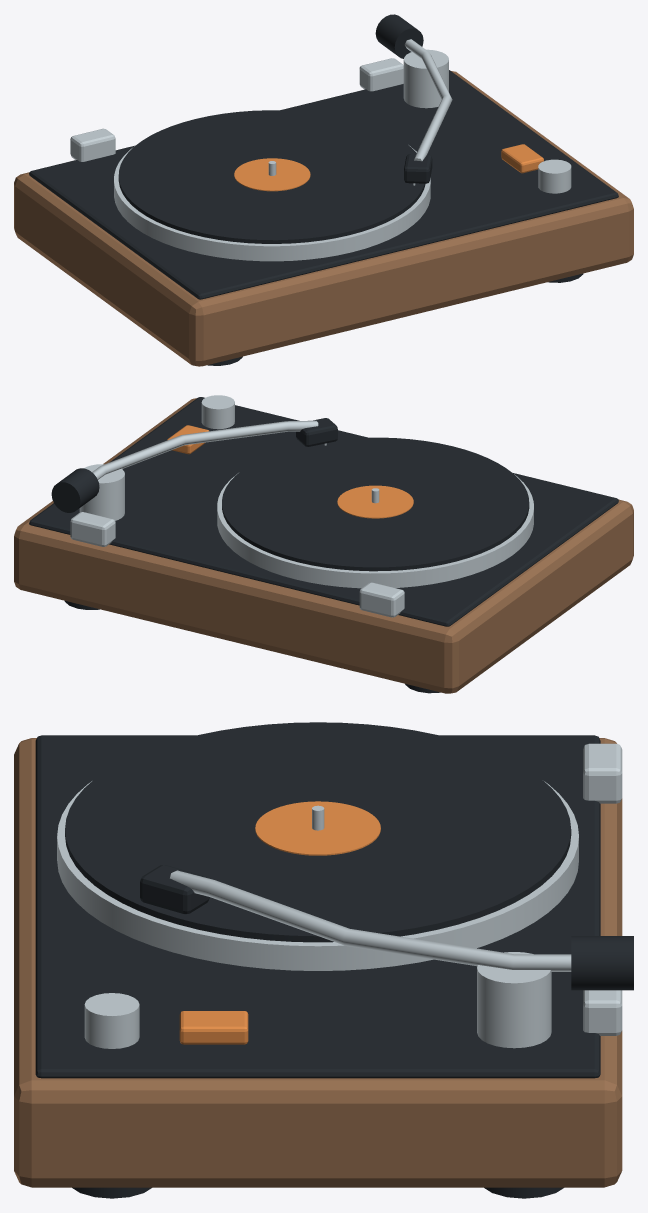
File: record_player.glb
3 renders of one model, top to bottom at view 1: azimuth 30°, elevation 25°; view 2: azimuth 150°, elevation 25°; view 3: azimuth 270°, elevation 25°, orthographic. The views are drawn at different scales.
Parts seen in each view (by area): view 1: Walnut turntable plinth, Turntable black top deck, Black vinyl record, Silver turntable platter, Tonearm pivot base, Orange record label, Bent silver tonearm, Tonearm counterweight, Dust cover hinge block, Dust cover hinge block.001, Speed control knob, Turntable power switch (+1 smaller); view 2: Walnut turntable plinth, Black vinyl record, Turntable black top deck, Silver turntable platter, Bent silver tonearm, Orange record label, Tonearm pivot base, Tonearm counterweight, Dust cover hinge block, Dust cover hinge block.001, Speed control knob, Tonearm cartridge (+1 smaller); view 3: Walnut turntable plinth, Black vinyl record, Turntable black top deck, Silver turntable platter, Bent silver tonearm, Tonearm pivot base, Orange record label, Tonearm counterweight, Speed control knob, Turntable power switch, Dust cover hinge block, Tonearm cartridge (+3 smaller).
Boxes of the visible parts, box(x1,y1,x2,y2) form: Walnut turntable plinth: box(14, 71, 633, 366); Turntable black top deck: box(29, 70, 618, 299); Black vinyl record: box(118, 110, 425, 243); Silver turntable platter: box(114, 145, 430, 261); Tonearm pivot base: box(403, 49, 448, 108); Orange record label: box(234, 158, 310, 191); Bent silver tonearm: box(404, 39, 452, 161); Tonearm counterweight: box(375, 14, 423, 58); Dust cover hinge block: box(70, 128, 115, 161); Dust cover hinge block.001: box(359, 58, 403, 91); Speed control knob: box(538, 159, 571, 193); Turntable power switch: box(501, 144, 543, 173); Walnut turntable plinth: box(14, 398, 633, 693); Black vinyl record: box(222, 437, 529, 571); Turntable black top deck: box(29, 397, 618, 626); Silver turntable platter: box(217, 473, 533, 588); Bent silver tonearm: box(92, 420, 318, 479); Orange record label: box(337, 485, 413, 518); Tonearm pivot base: box(79, 464, 124, 520); Tonearm counterweight: box(51, 468, 99, 512); Dust cover hinge block: box(359, 582, 404, 617); Dust cover hinge block.001: box(70, 512, 115, 546); Speed control knob: box(201, 395, 234, 429); Tonearm cartridge: box(296, 418, 337, 446); Walnut turntable plinth: box(14, 738, 622, 1187); Black vinyl record: box(65, 722, 571, 942); Turntable black top deck: box(35, 735, 600, 1078); Silver turntable platter: box(57, 781, 578, 970); Bent silver tonearm: box(170, 870, 571, 971); Tonearm pivot base: box(477, 952, 551, 1048); Orange record label: box(255, 801, 380, 855); Tonearm counterweight: box(571, 936, 633, 990); Speed control knob: box(84, 993, 139, 1048); Turntable power switch: box(179, 1011, 248, 1044); Dust cover hinge block: box(583, 743, 622, 803); Tonearm cartridge: box(140, 865, 209, 914).
Bounding box in the file's own units: 0.43 × 0.132 × 0.316.
